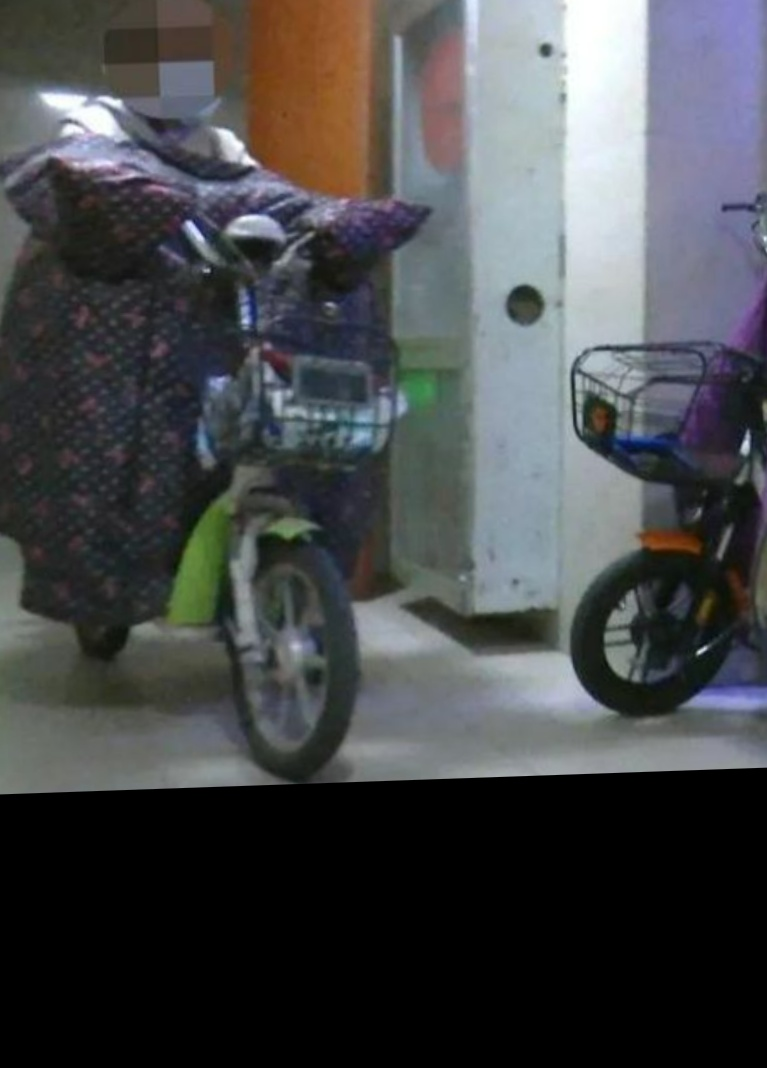ebike: (6, 141, 413, 779), (567, 185, 767, 709)
